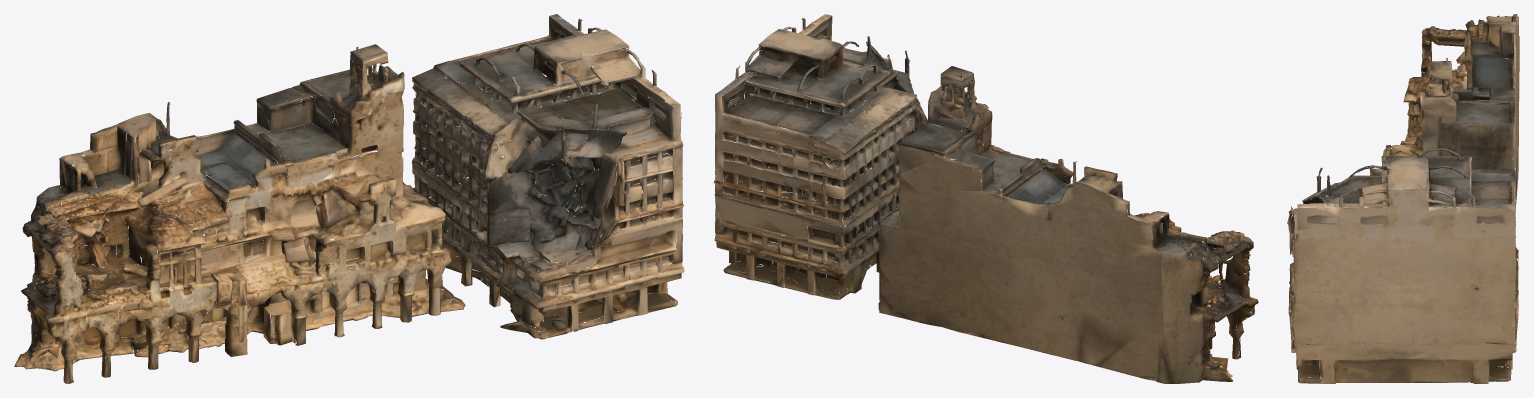
File: hero_ruins.glb
3 views of the same model, side by side, from view 1: azimuth 30°, elevation 25°; view 2: azimuth 150°, elevation 25°; view 3: azimuth 270°, elevation 25° (orthographic). The views are drawn at different scales.
Visible parts, largest first — view 1: hero; view 2: hero; view 3: hero.
Part boxes in pixels (<box>): hero: <box>14,14,684,383</box>; hero: <box>713,14,1258,383</box>; hero: <box>1287,14,1519,383</box>.
Bounding box in the file's own units: 0.9833 × 0.4262 × 0.4.
1 material, 1 textured.
